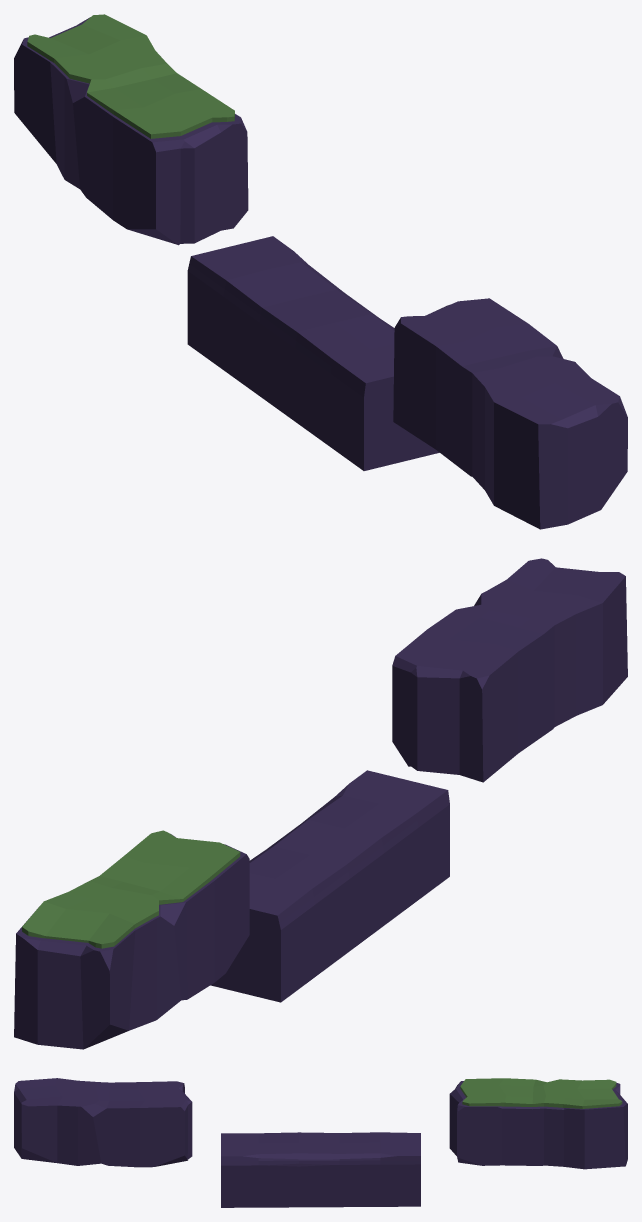
Rendered from ground.fbx.
The picture shows the model from 3 angles, top to bottom: view 1: azimuth 30°, elevation 25°; view 2: azimuth 150°, elevation 25°; view 3: azimuth 270°, elevation 25°; orthographic projection. The views are drawn at different scales.
Parts seen in each view (by area): view 1: Cube, Cube.001, Cube.002; view 2: Cube, Cube.001, Cube.002; view 3: Cube.001, Cube.002, Cube.
Part boxes in pixels (x1,y1,x2,y2): Cube: [393, 298, 627, 529]; Cube.001: [14, 14, 248, 245]; Cube.002: [187, 236, 439, 470]; Cube: [392, 558, 627, 782]; Cube.001: [14, 830, 249, 1049]; Cube.002: [210, 770, 449, 1002]; Cube.001: [449, 1078, 627, 1169]; Cube.002: [221, 1132, 420, 1207]; Cube: [14, 1078, 192, 1167].
Bounding box in the file's own units: 1705 × 2610 × 13939.
